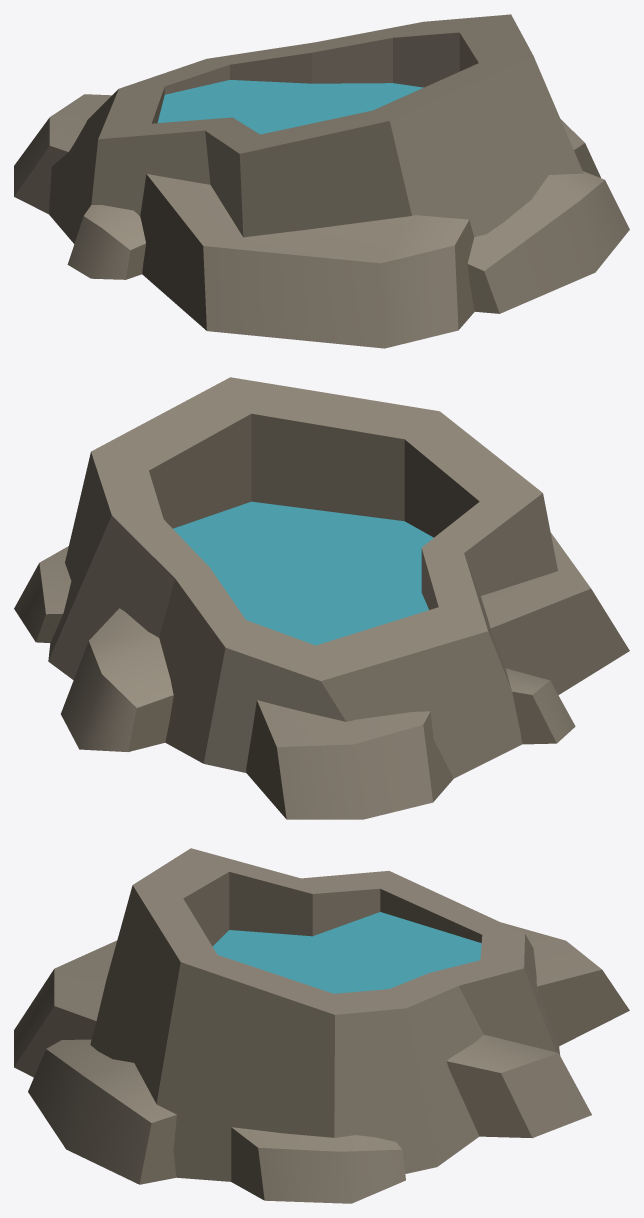
The model's file is MediumLess_SF_Env_Waterpool_02.fbx.
3 views of the same model, one above another, from view 1: azimuth 30°, elevation 25°; view 2: azimuth 150°, elevation 25°; view 3: azimuth 270°, elevation 25° (orthographic). The views are drawn at different scales.
Visible parts, largest first — view 1: SF_Env_Waterpool_02; view 2: SF_Env_Waterpool_02; view 3: SF_Env_Waterpool_02.
Boxes of the visible parts, x1=… form: SF_Env_Waterpool_02: x1=14, y1=14, x2=629, y2=348; SF_Env_Waterpool_02: x1=14, y1=377, x2=629, y2=819; SF_Env_Waterpool_02: x1=14, y1=848, x2=629, y2=1203.
Bounding box in the file's own units: 559 × 192 × 581.
